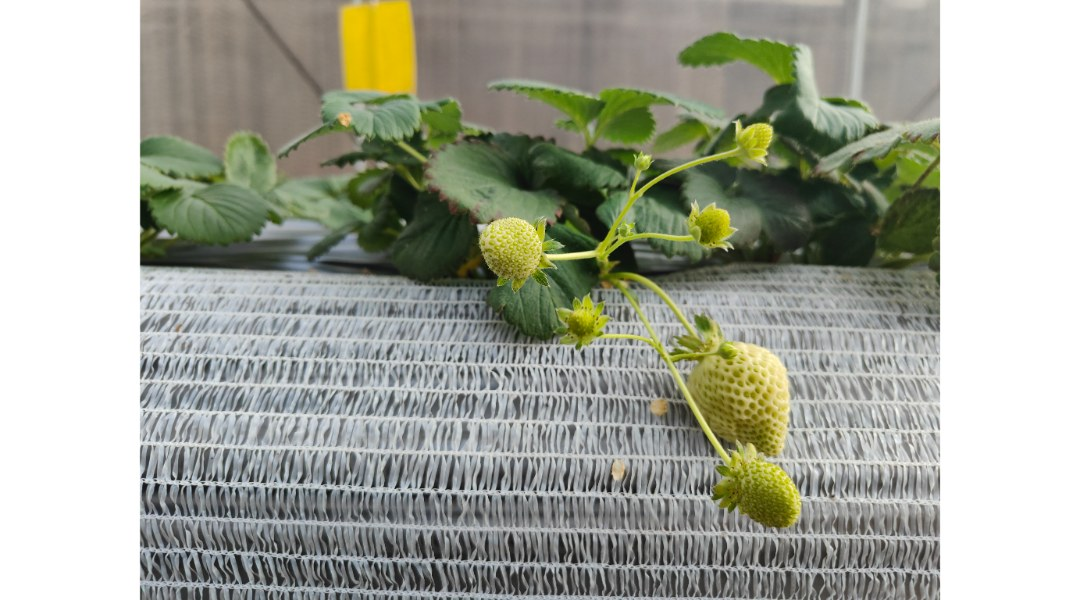berry: (677, 317, 800, 453), (700, 441, 794, 535), (477, 206, 558, 298), (551, 287, 612, 353), (690, 201, 736, 255)
strain: (669, 368, 729, 466), (640, 146, 736, 195), (620, 269, 697, 330), (609, 234, 696, 259), (621, 292, 661, 344), (599, 198, 633, 243), (598, 330, 651, 349), (550, 247, 594, 262)
